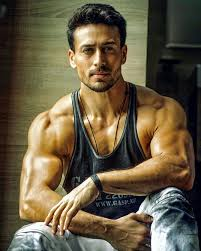asian_male: (56, 3, 148, 98)
